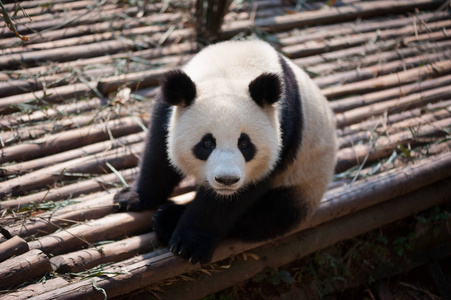panda: (112, 32, 343, 269)
